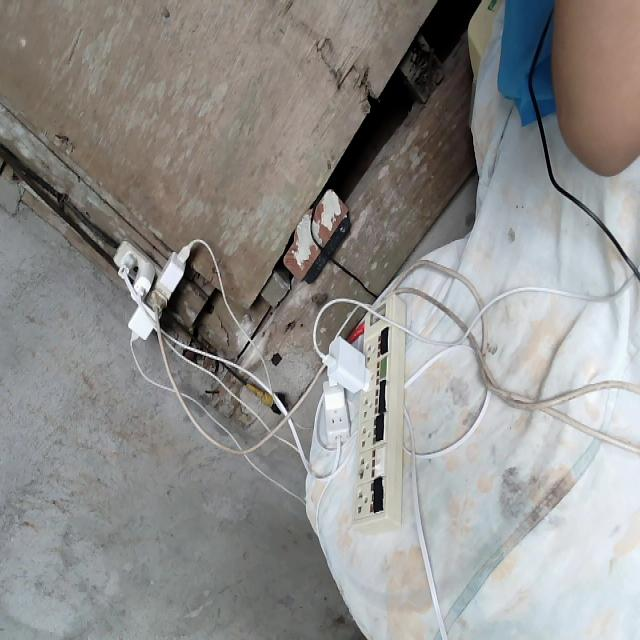-: (111, 238, 187, 342)
